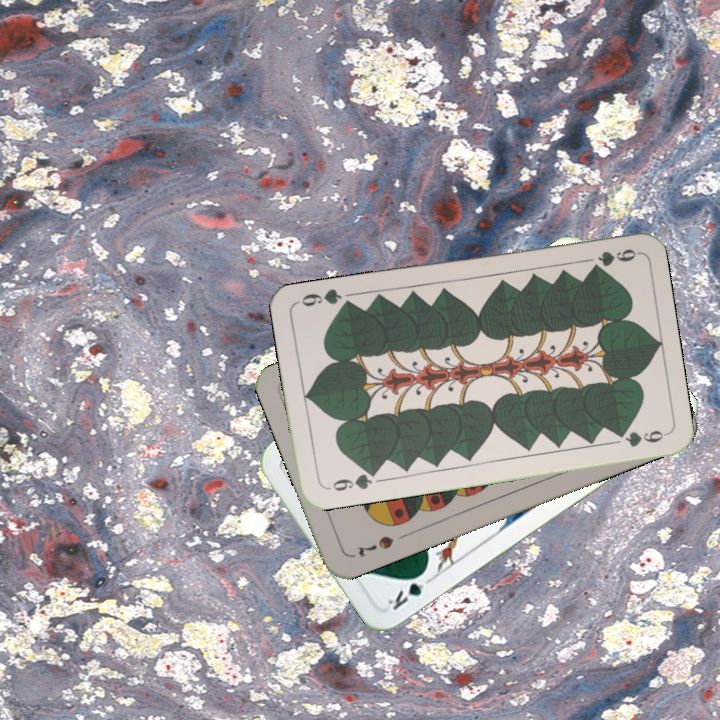G9: (322, 466, 380, 494), (587, 244, 640, 272)
GK: (383, 566, 431, 613)
S7: (354, 531, 396, 560)
